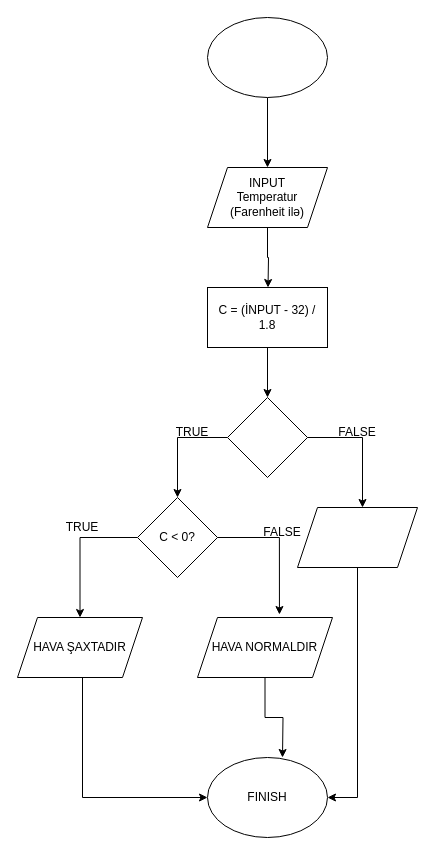
The diagram is 435 pixels wide and 855 high, and some of its shapes have lost their labels. The box of each missing label's shape, as (x1, y1, x2, y2) in pixels:
C < 20?: (226, 396, 308, 478)
HAVA ISTIDIR: (296, 506, 418, 568)
START: (206, 16, 328, 98)
